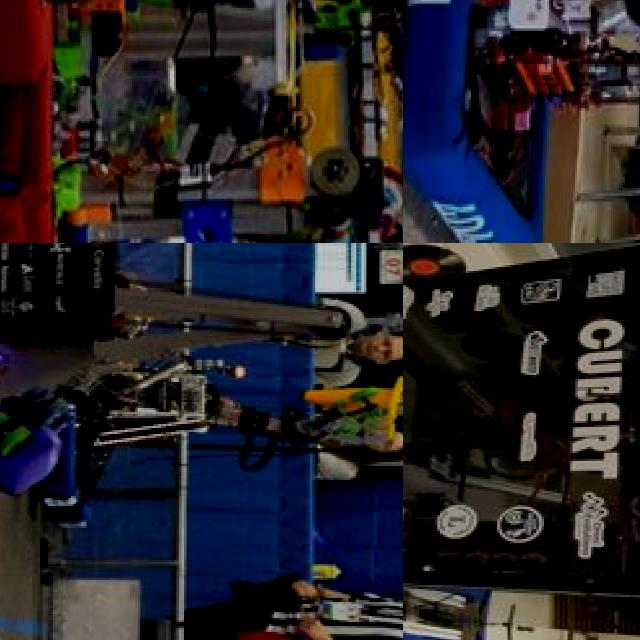FRC-Robots: (0, 243, 383, 523), (403, 243, 640, 640), (0, 74, 403, 243), (403, 0, 640, 243), (0, 0, 403, 59)
